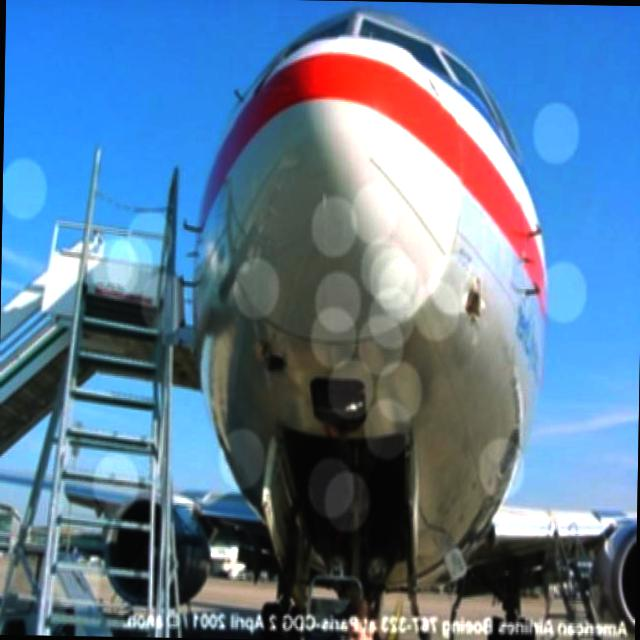dent: (256, 336, 294, 378), (459, 280, 487, 318)
